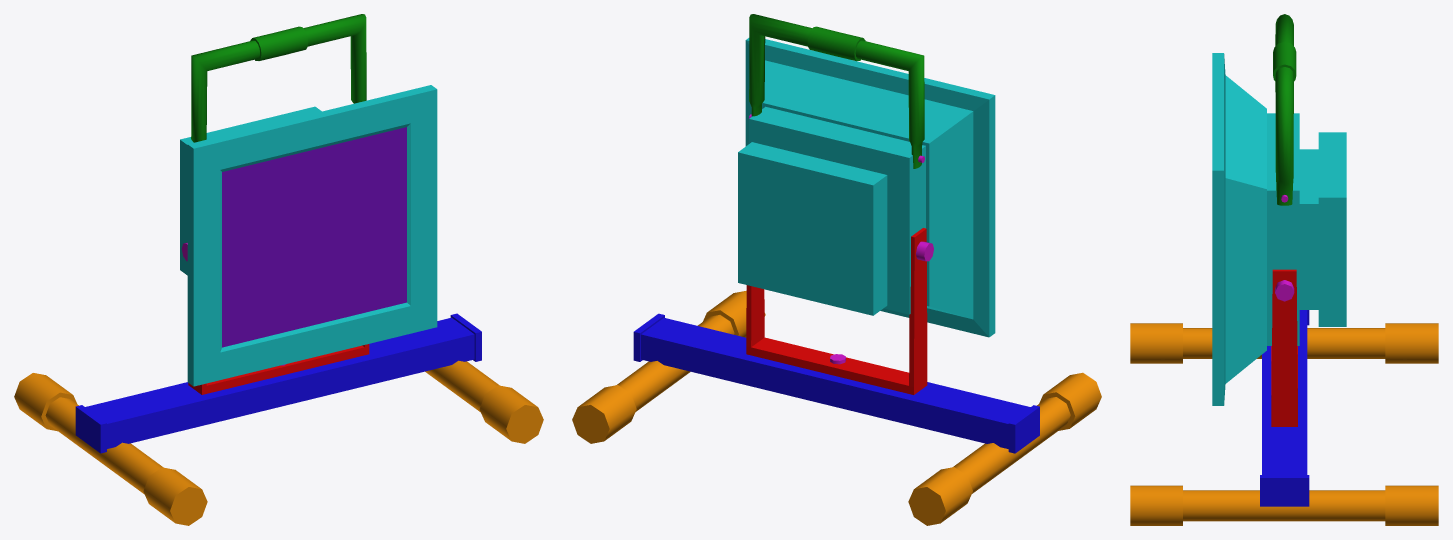
The model's file is FocoSuelo_low.fbx.
3 views of the same model, side by side, from view 1: azimuth 30°, elevation 25°; view 2: azimuth 150°, elevation 25°; view 3: azimuth 270°, elevation 25° (orthographic).
Parts seen in each view (by area): view 1: Foco_low; view 2: Foco_low; view 3: Foco_low.
Part boxes in pixels (bbox=[...]): Foco_low: bbox=[14, 14, 543, 525]; Foco_low: bbox=[572, 14, 1101, 525]; Foco_low: bbox=[1130, 14, 1438, 525].
Bounding box in the file's own units: 70.65 × 69.91 × 50.01.
